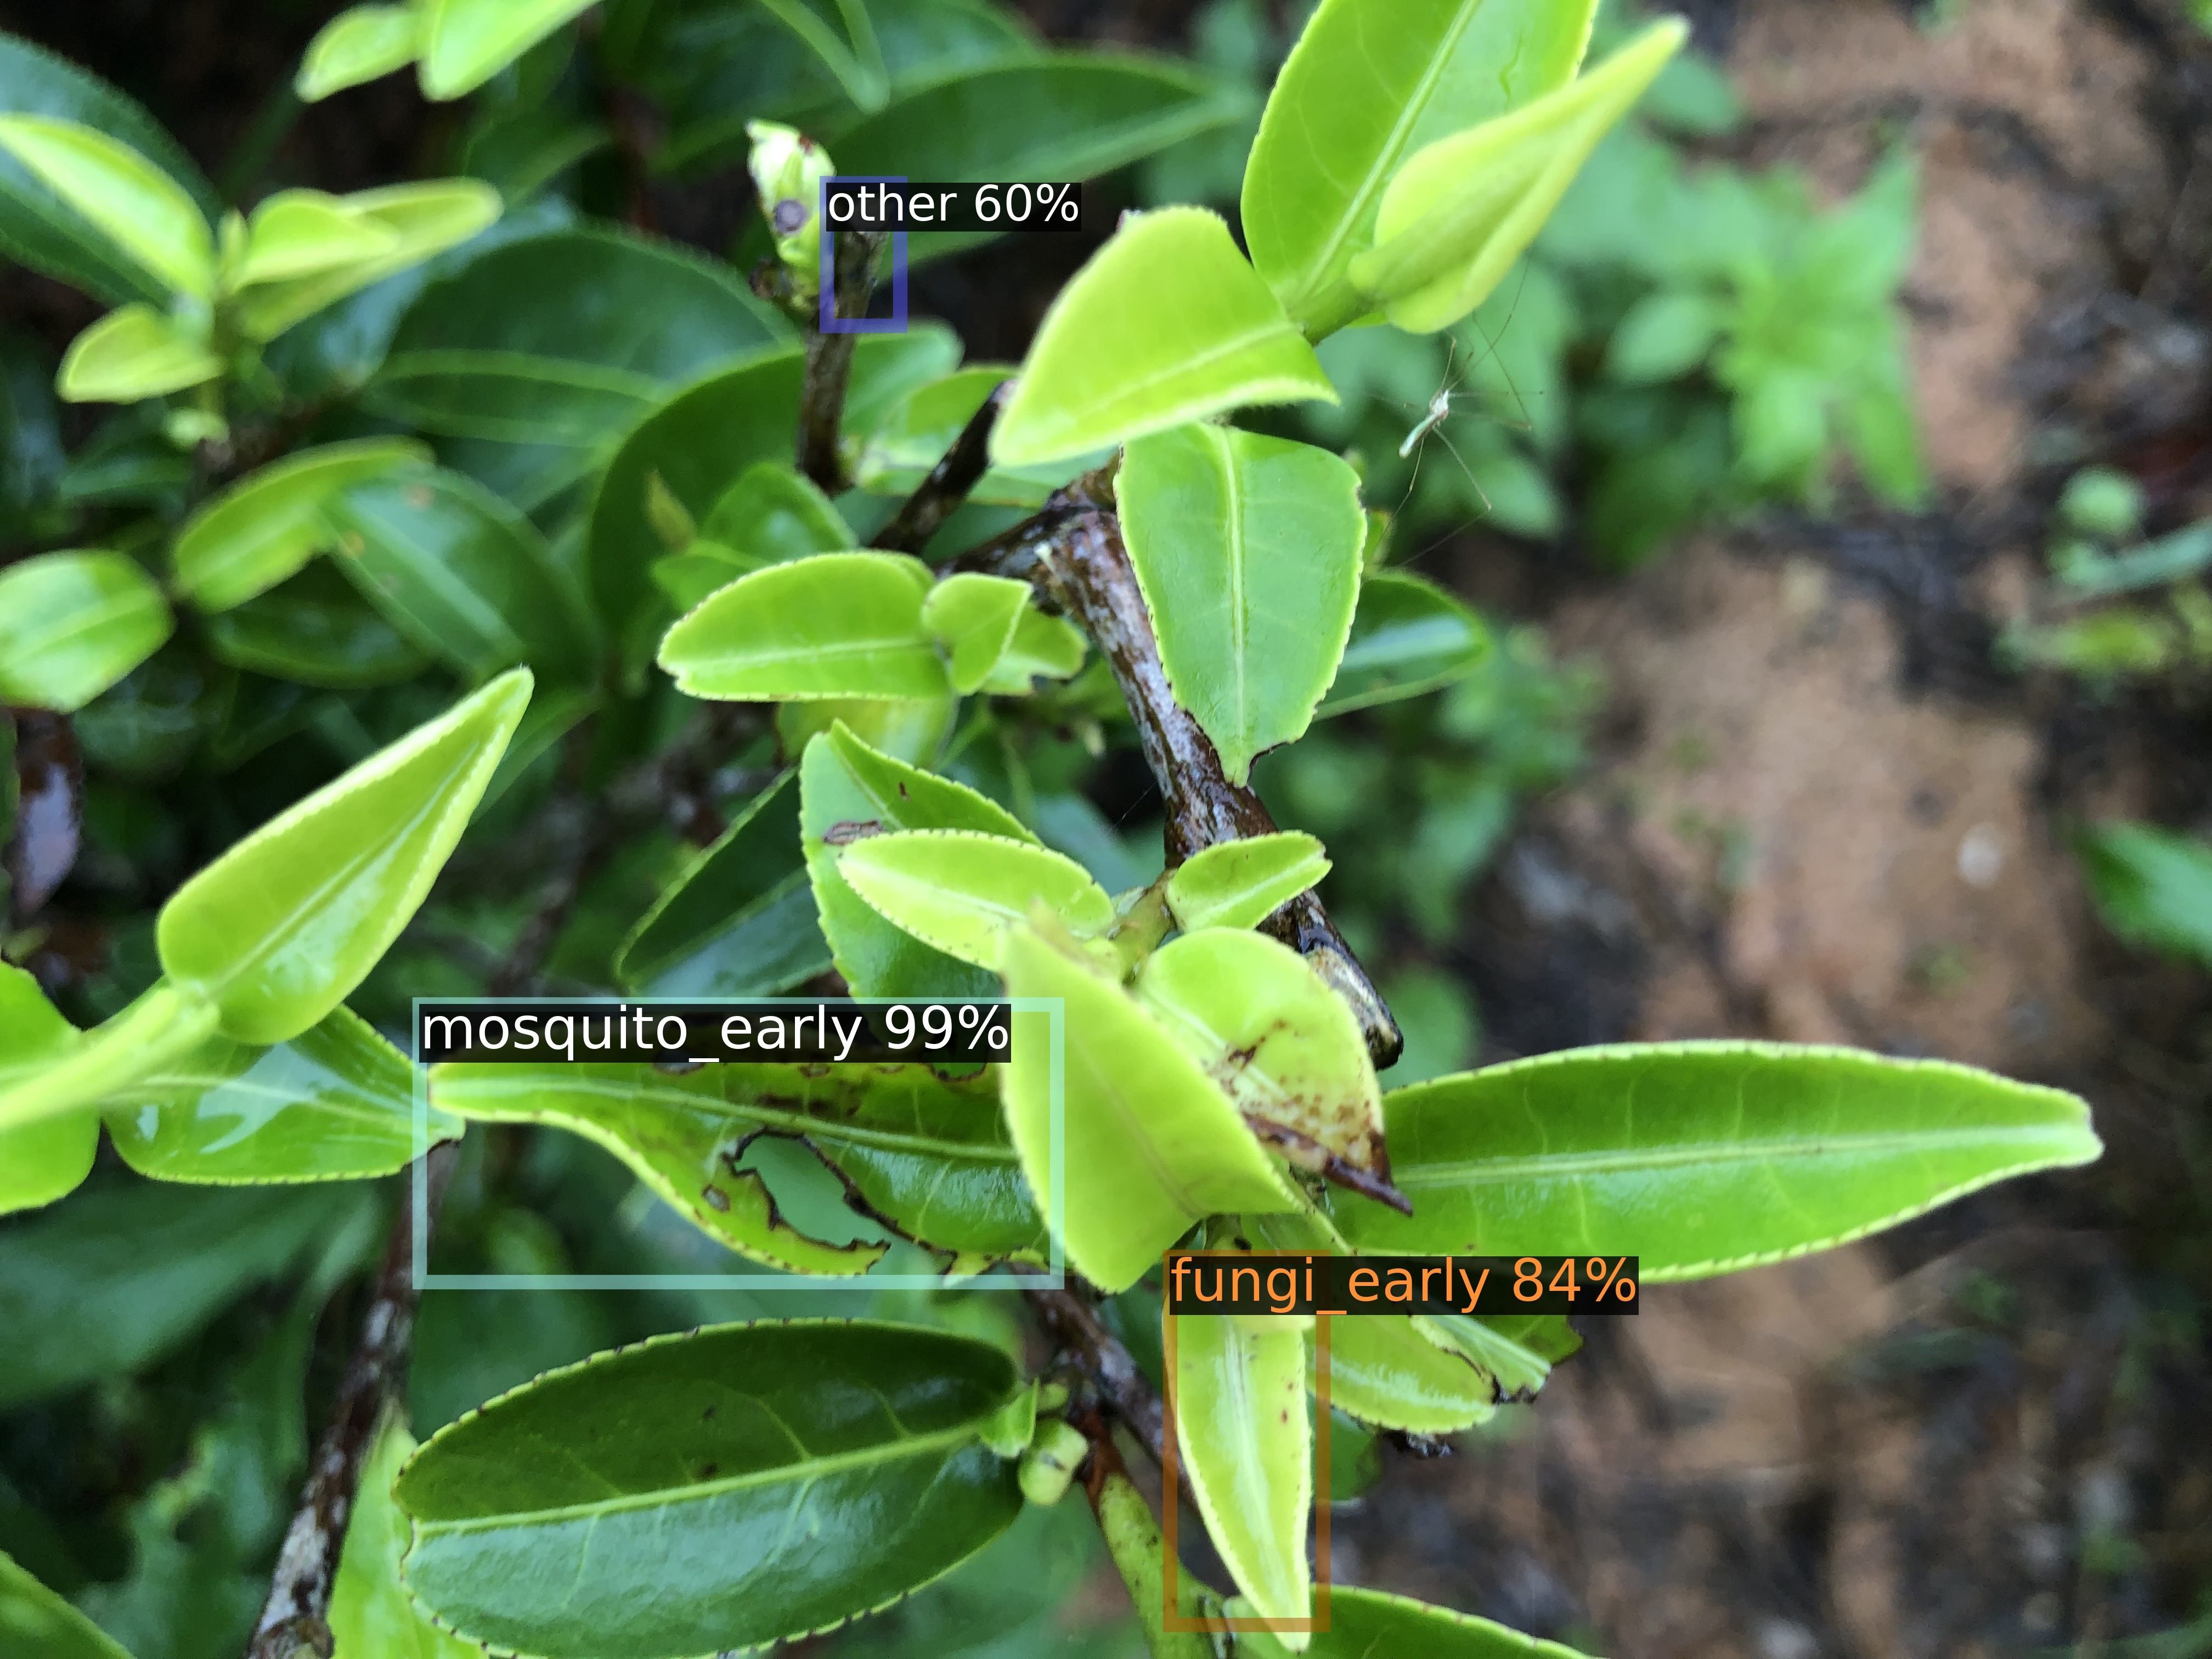fungi_early: (1170, 1256, 1322, 1624)
mosquito_early: (420, 1004, 1057, 1283)
other: (827, 183, 900, 326)
